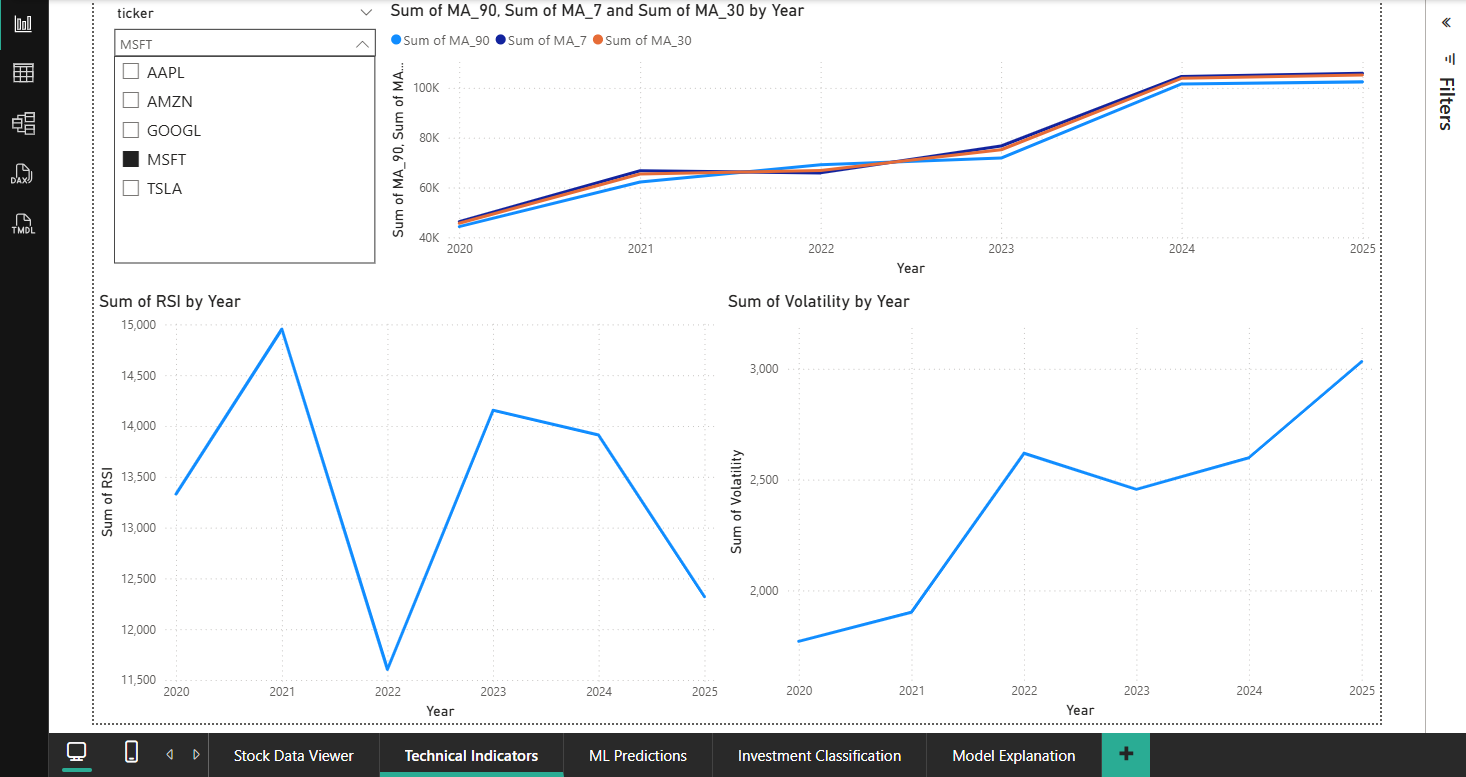

Layout of this report page (visuals, bound fields, positions):
{"tool":"powerbi","page":{"name":"Technical Indicators","canvas":[1280,720],"ordinal":1},"visuals":[{"type":"slicer","fields":{"Values":["technical_indicators.ticker"]},"box":[10,0,280,280],"z":0},{"type":"lineChart","fields":{"Category":["technical_indicators.date.Variation.Date Hierarchy.Year","technical_indicators.date.Variation.Date Hierarchy.Quarter","technical_indicators.date.Variation.Date Hierarchy.Month","technical_indicators.date.Variation.Date Hierarchy.Day"],"Y":["Sum(technical_indicators.MA_90)","Sum(technical_indicators.MA_7)","Sum(technical_indicators.MA_30)"]},"box":[289.5,0,990.7,279.9],"z":1000},{"type":"lineChart","fields":{"Category":["technical_indicators.date.Variation.Date Hierarchy.Year","technical_indicators.date.Variation.Date Hierarchy.Quarter","technical_indicators.date.Variation.Date Hierarchy.Month","technical_indicators.date.Variation.Date Hierarchy.Day"],"Y":["Sum(technical_indicators.RSI)"]},"box":[0,289.5,625.7,430.9],"z":2000},{"type":"lineChart","fields":{"Category":["technical_indicators.date.Variation.Date Hierarchy.Year","technical_indicators.date.Variation.Date Hierarchy.Quarter","technical_indicators.date.Variation.Date Hierarchy.Month","technical_indicators.date.Variation.Date Hierarchy.Day"],"Y":["Sum(technical_indicators.Volatility)"]},"box":[626,290,654,430],"z":3000}]}

Visuals, with their boxes on the page's 1280x720 design canvas (x1, y1, x2, y2). These are canvas units, not pixel positions in the 1466x777 screenshot, which may show the page scaled, cropped or inside an application window:
slicer - technical_indicators.ticker: 10:0:290:280
lineChart - technical_indicators.date.Variation.Date Hierarchy.Year x technical_indicators.date.Variation.Date Hierarchy.Quarter: 290:0:1280:280
lineChart - technical_indicators.date.Variation.Date Hierarchy.Year x technical_indicators.date.Variation.Date Hierarchy.Quarter: 0:290:626:720
lineChart - technical_indicators.date.Variation.Date Hierarchy.Year x technical_indicators.date.Variation.Date Hierarchy.Quarter: 626:290:1280:720
